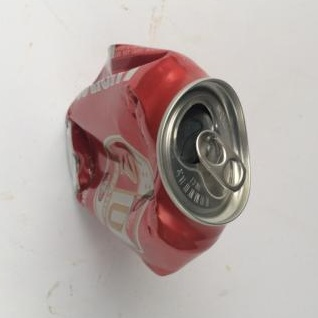Metal: (64, 34, 248, 282)
